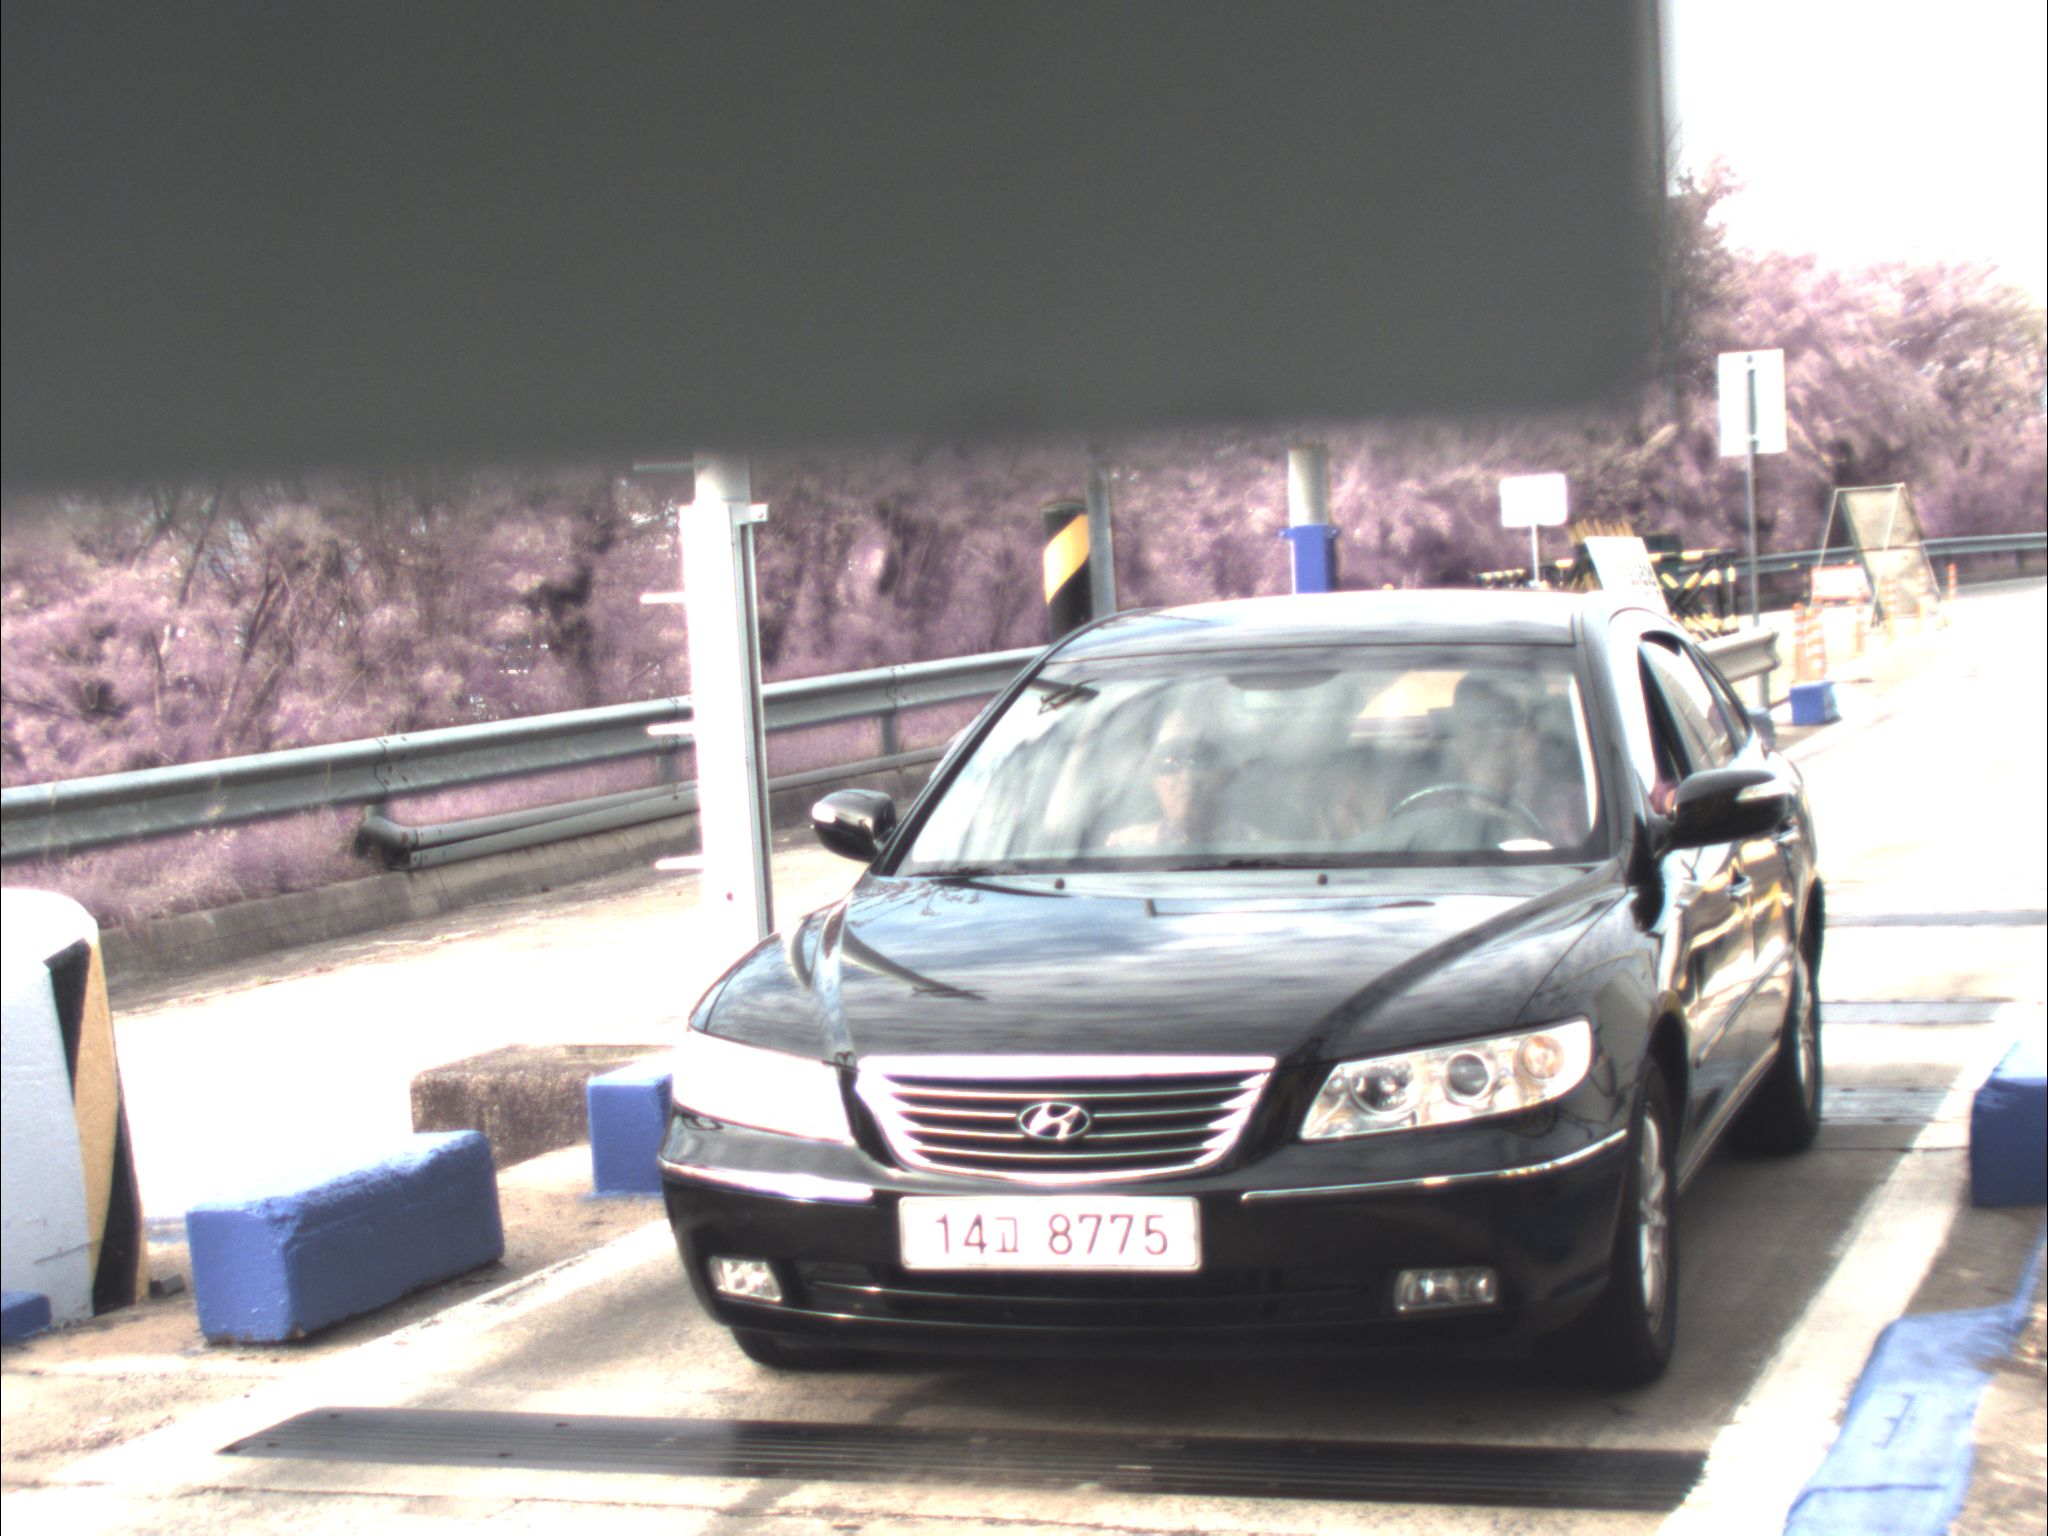car: (646, 583, 1838, 1402)
plate: (891, 1189, 1208, 1279)
